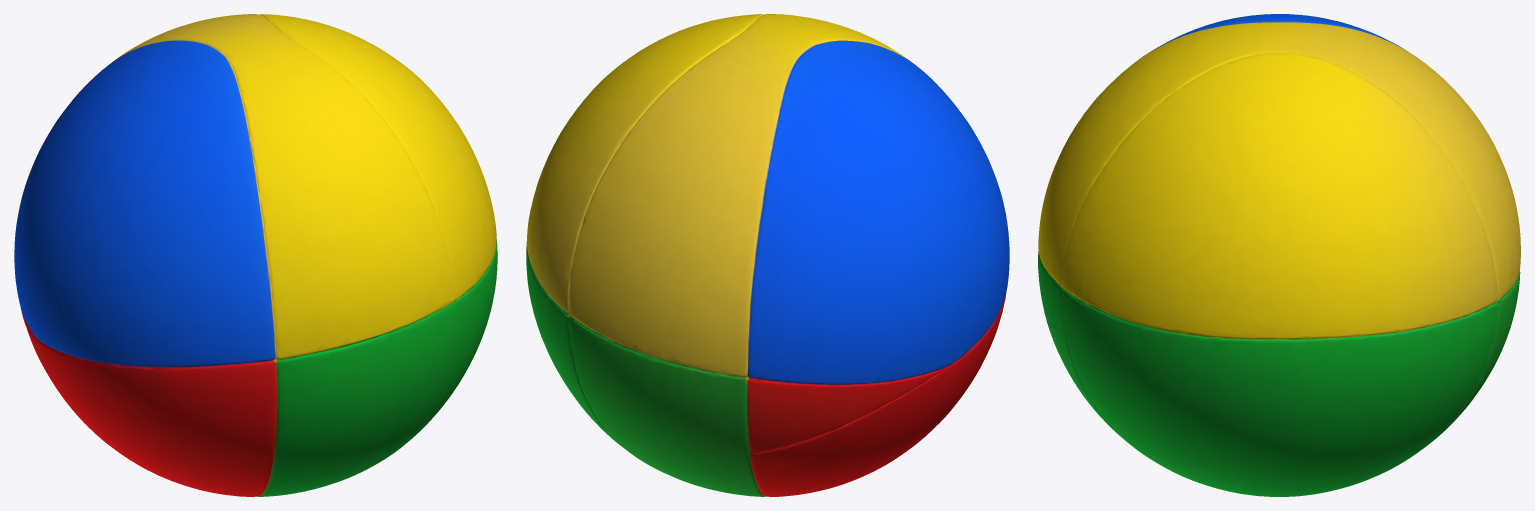
Rendered from ball.glb.
3 renders of one model, left to right at view 1: azimuth 30°, elevation 25°; view 2: azimuth 150°, elevation 25°; view 3: azimuth 270°, elevation 25°, orthographic.
Visible parts, largest first — view 1: tripo_node_2501e6ee-9969-4e0c-ac66-7ee5b3b2b869; view 2: tripo_node_2501e6ee-9969-4e0c-ac66-7ee5b3b2b869; view 3: tripo_node_2501e6ee-9969-4e0c-ac66-7ee5b3b2b869.
Boxes of the visible parts, bbox=[...] form: tripo_node_2501e6ee-9969-4e0c-ac66-7ee5b3b2b869: bbox=[14, 14, 497, 496]; tripo_node_2501e6ee-9969-4e0c-ac66-7ee5b3b2b869: bbox=[526, 14, 1009, 496]; tripo_node_2501e6ee-9969-4e0c-ac66-7ee5b3b2b869: bbox=[1038, 14, 1520, 496].
Bounding box in the file's own units: 0.9799 × 0.9785 × 0.9791.
1 material, 1 textured.
